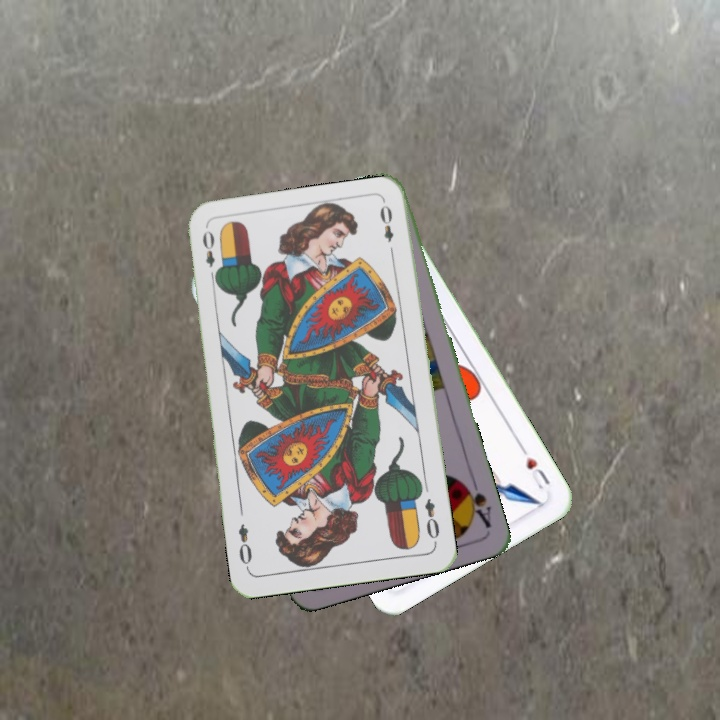EO: (198, 227, 222, 284), (421, 494, 442, 542)
HU: (516, 442, 553, 493)
SA: (457, 473, 494, 531)
